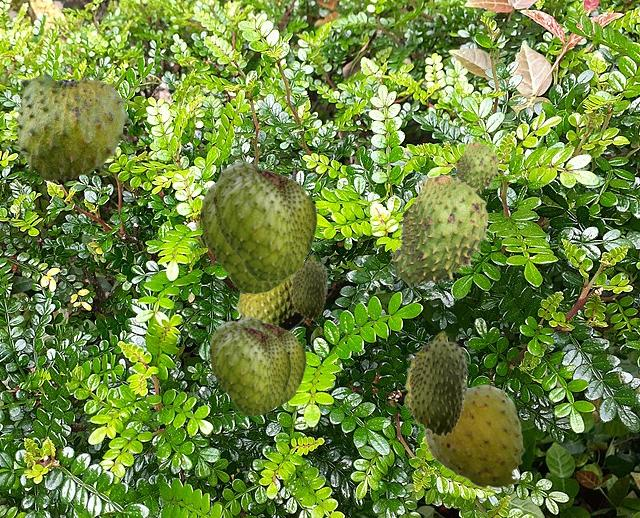guyabano: (13, 70, 130, 181), (213, 159, 316, 281), (389, 175, 488, 286), (422, 384, 524, 490), (200, 181, 286, 293), (209, 319, 290, 415), (406, 330, 469, 436), (238, 315, 305, 406), (233, 276, 304, 330), (290, 254, 328, 319), (454, 142, 498, 194), (403, 374, 411, 415)
